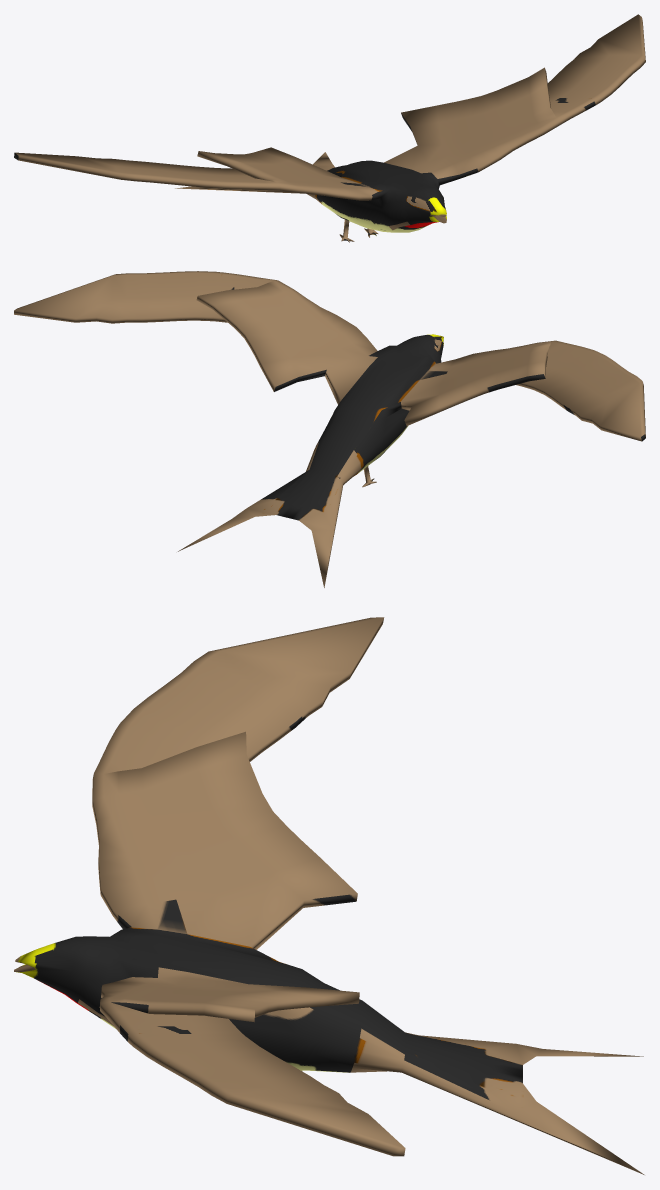
File: NfryBird.fbx
3 renders of one model, top to bottom at view 1: azimuth 30°, elevation 25°; view 2: azimuth 150°, elevation 25°; view 3: azimuth 270°, elevation 25°, orthographic. The views are drawn at different scales.
Visible parts, largest first — view 1: Box001; view 2: Box001; view 3: Box001.
Boxes of the visible parts, left/top/right/bottom form: Box001: left=14, top=14, right=645, bottom=242; Box001: left=14, top=271, right=645, bottom=587; Box001: left=14, top=617, right=644, bottom=1174.
Bounding box in the file's own units: 88.31 × 47.25 × 21.18.
1 material, 1 textured.
